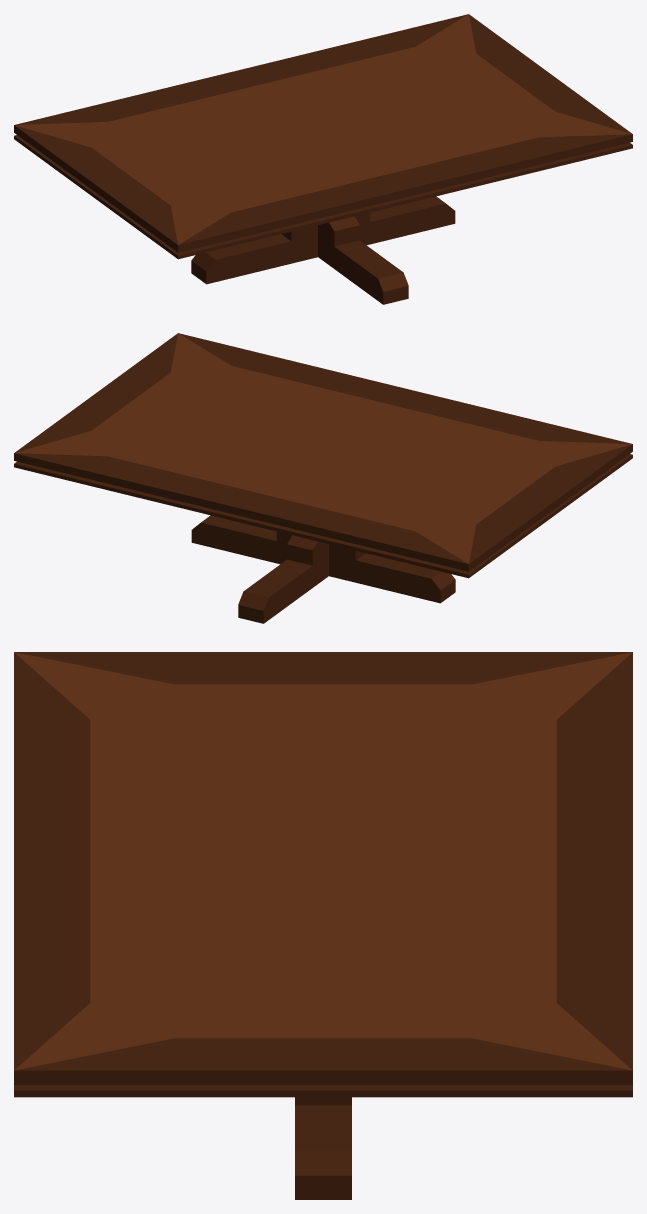
Rendered from Table-Rect-Wooden-Classical_01.fbx.
The picture shows the model from 3 angles, top to bottom: view 1: azimuth 30°, elevation 25°; view 2: azimuth 150°, elevation 25°; view 3: azimuth 270°, elevation 25°; orthographic projection. The views are drawn at different scales.
Visible parts, largest first — view 1: Table_Rect_01; view 2: Table_Rect_01; view 3: Table_Rect_01.
Boxes of the visible parts, x1=… form: Table_Rect_01: x1=14, y1=14, x2=632, y2=304; Table_Rect_01: x1=14, y1=333, x2=632, y2=623; Table_Rect_01: x1=14, y1=652, x2=632, y2=1199.
Size of the model in its own units: 3.2 by 0.7993 by 2.
